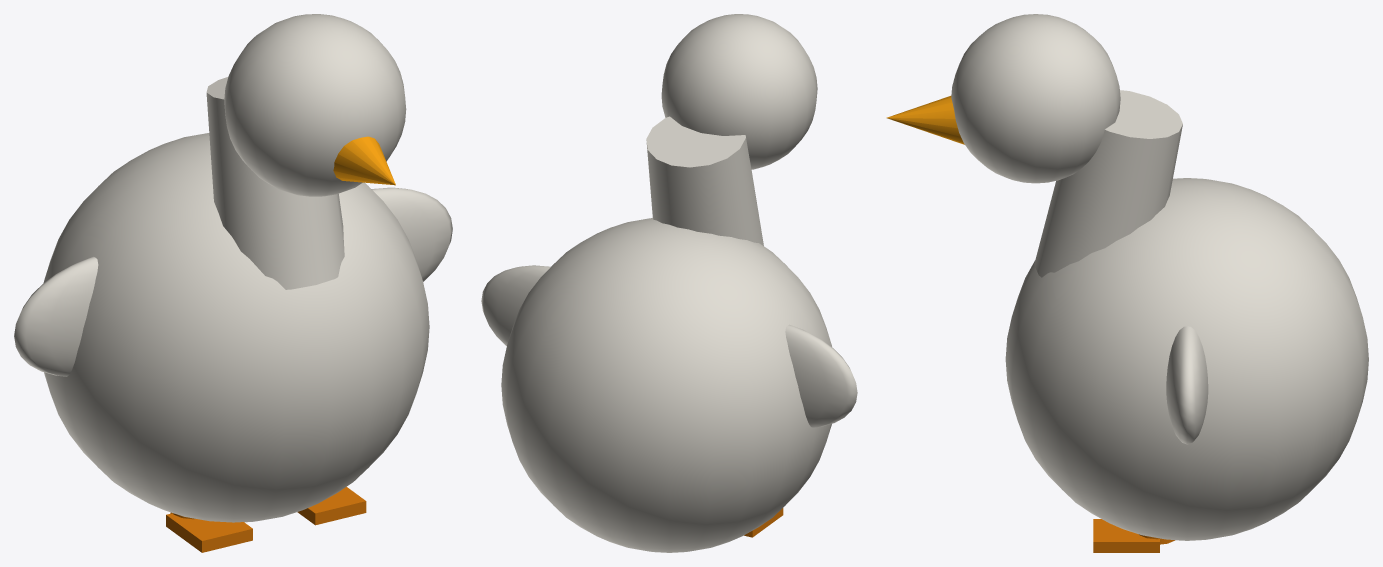
The model's file is goose.glb.
The picture shows the model from 3 angles, left to right: view 1: azimuth 30°, elevation 25°; view 2: azimuth 150°, elevation 25°; view 3: azimuth 270°, elevation 25°; orthographic projection. The views are drawn at different scales.
Size of the model in its own units: 1.55 by 1.83 by 1.6.
